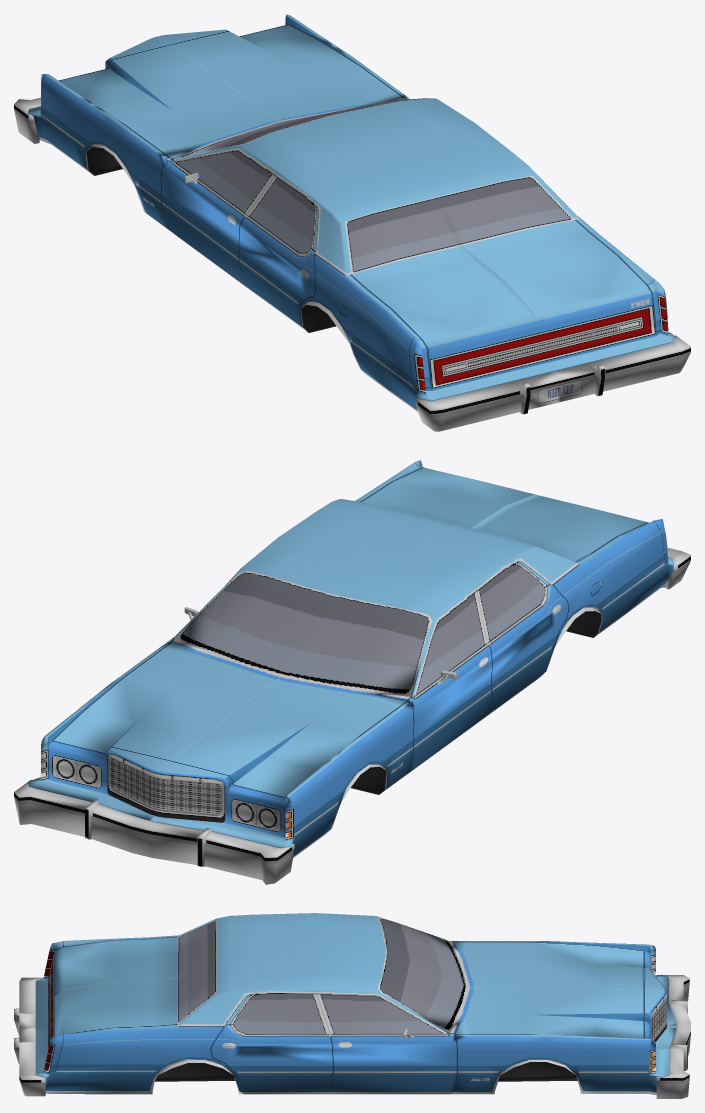
The model's file is 78LTD.fbx.
3 renders of one model, top to bottom at view 1: azimuth 30°, elevation 25°; view 2: azimuth 150°, elevation 25°; view 3: azimuth 270°, elevation 25°, orthographic. The views are drawn at different scales.
Visible parts, largest first — view 1: 78LTD; view 2: 78LTD; view 3: 78LTD.
Part boxes in pixels (x1,y1,x2,y2): 78LTD: (14, 14, 690, 431); 78LTD: (14, 460, 690, 884); 78LTD: (14, 913, 690, 1098).
Bounding box in the file's own units: 2.38 × 1.06 × 6.44.
